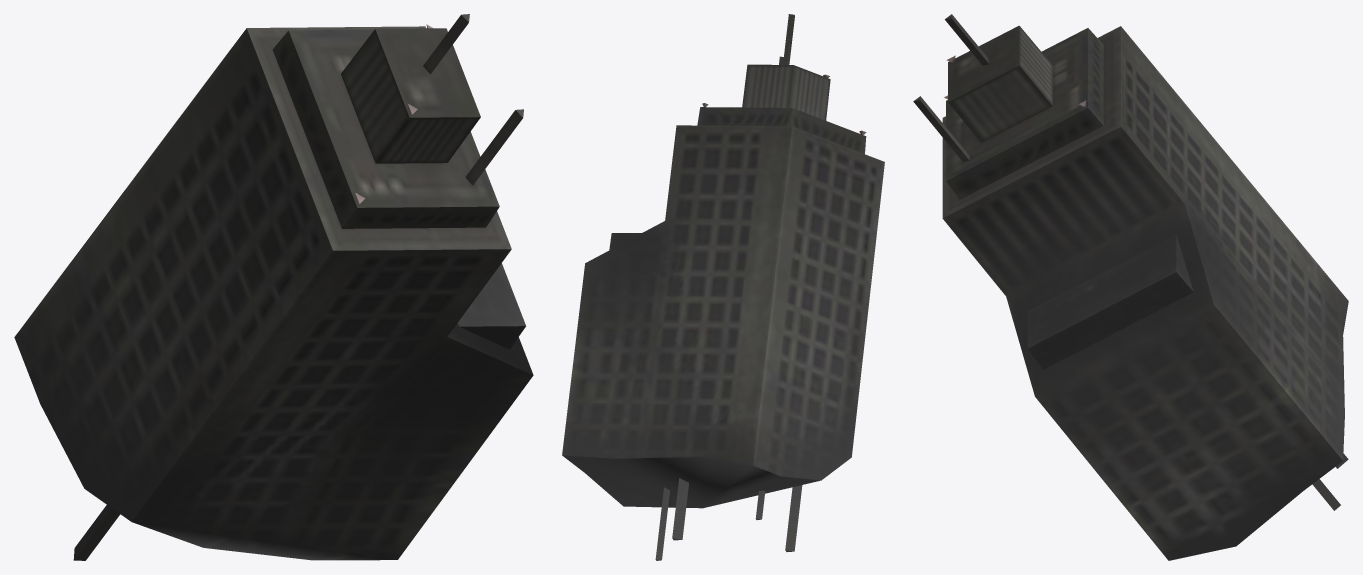
File: skyBuildingAAB_pos_grp (16).fbx
3 renders of one model, left to right at view 1: azimuth 30°, elevation 25°; view 2: azimuth 150°, elevation 25°; view 3: azimuth 270°, elevation 25°, orthographic. The views are drawn at different scales.
Parts seen in each view (by area): view 1: skyBuildingAAB_geo; view 2: skyBuildingAAB_geo; view 3: skyBuildingAAB_geo.
Boxes of the visible parts, <box> form: skyBuildingAAB_geo: <box>14,14,533,560</box>; skyBuildingAAB_geo: <box>562,14,884,560</box>; skyBuildingAAB_geo: <box>913,14,1348,560</box>.
Bounding box in the file's own units: 4.56 × 7.98 × 6.08.
